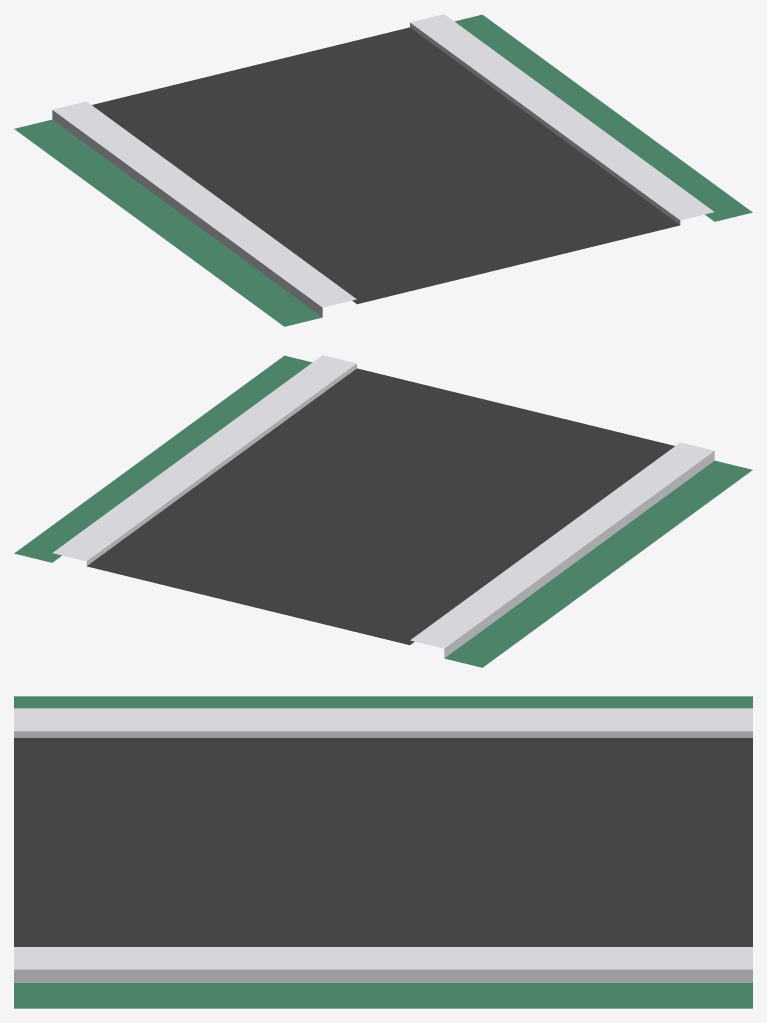
Rendered from roadStraight.glb.
3 renders of one model, top to bottom at view 1: azimuth 30°, elevation 25°; view 2: azimuth 150°, elevation 25°; view 3: azimuth 270°, elevation 25°, orthographic. The views are drawn at different scales.
Parts seen in each view (by area): view 1: roadStraight; view 2: roadStraight; view 3: roadStraight.
Part boxes in pixels (bbox=[...]): roadStraight: bbox=[14, 14, 752, 326]; roadStraight: bbox=[14, 355, 752, 667]; roadStraight: bbox=[14, 696, 752, 1008].
Bounding box in the file's own units: 1 × 0.02 × 1.
